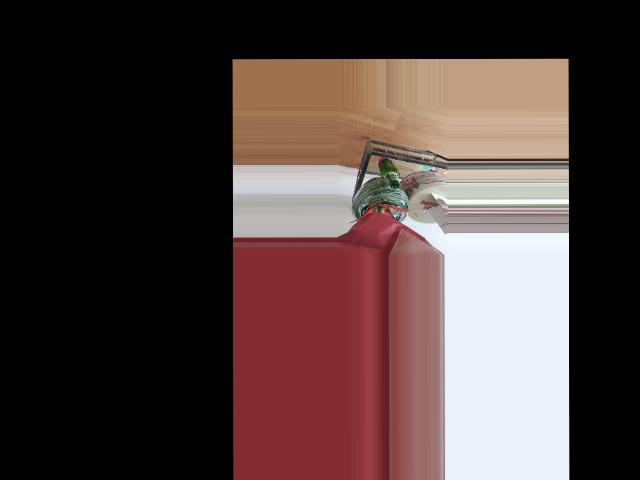beer: (377, 158, 399, 188)
